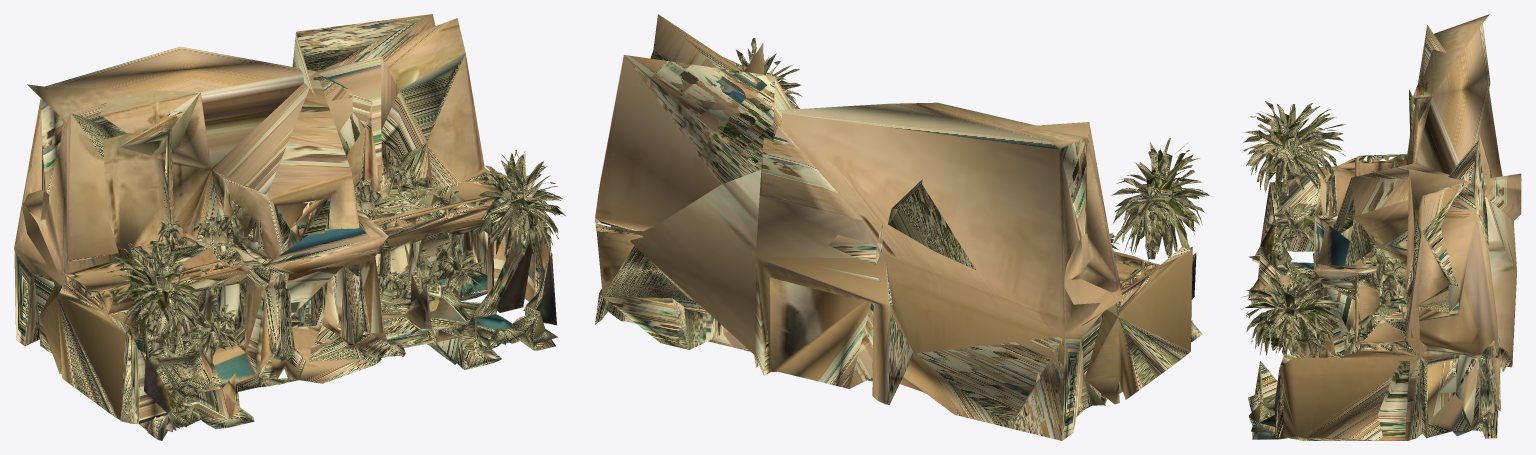
File: Egyptian_Palace.glb
The picture shows the model from 3 angles, left to right: view 1: azimuth 30°, elevation 25°; view 2: azimuth 150°, elevation 25°; view 3: azimuth 270°, elevation 25°; orthographic projection. The views are drawn at different scales.
Visible parts, largest first — view 1: Egyptian_Palace; view 2: Egyptian_Palace; view 3: Egyptian_Palace.
Boxes of the visible parts, <box> form: Egyptian_Palace: <box>14,14,565,440</box>; Egyptian_Palace: <box>595,14,1211,440</box>; Egyptian_Palace: <box>1241,14,1521,440</box>.
Size of the model in its own units: 1.9 by 1.13 by 1.17.
Materials: 1 (1 with a texture image).
